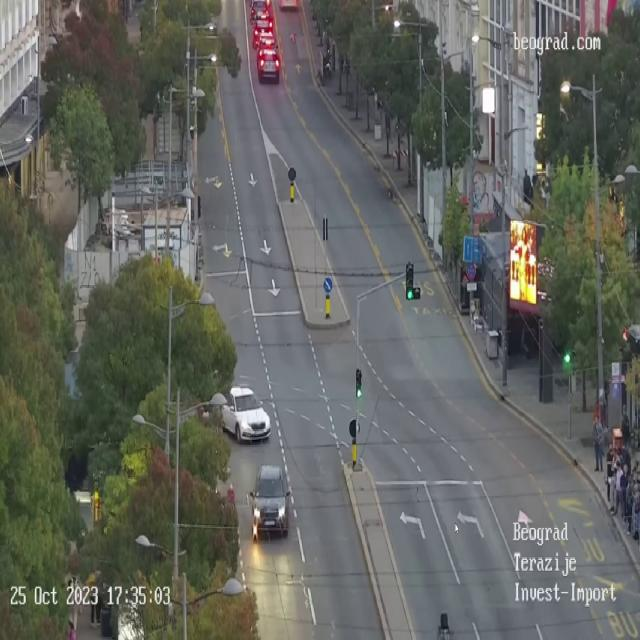car: (247, 464, 291, 540), (221, 385, 271, 445), (257, 54, 282, 83), (255, 33, 278, 57), (252, 15, 271, 30)
